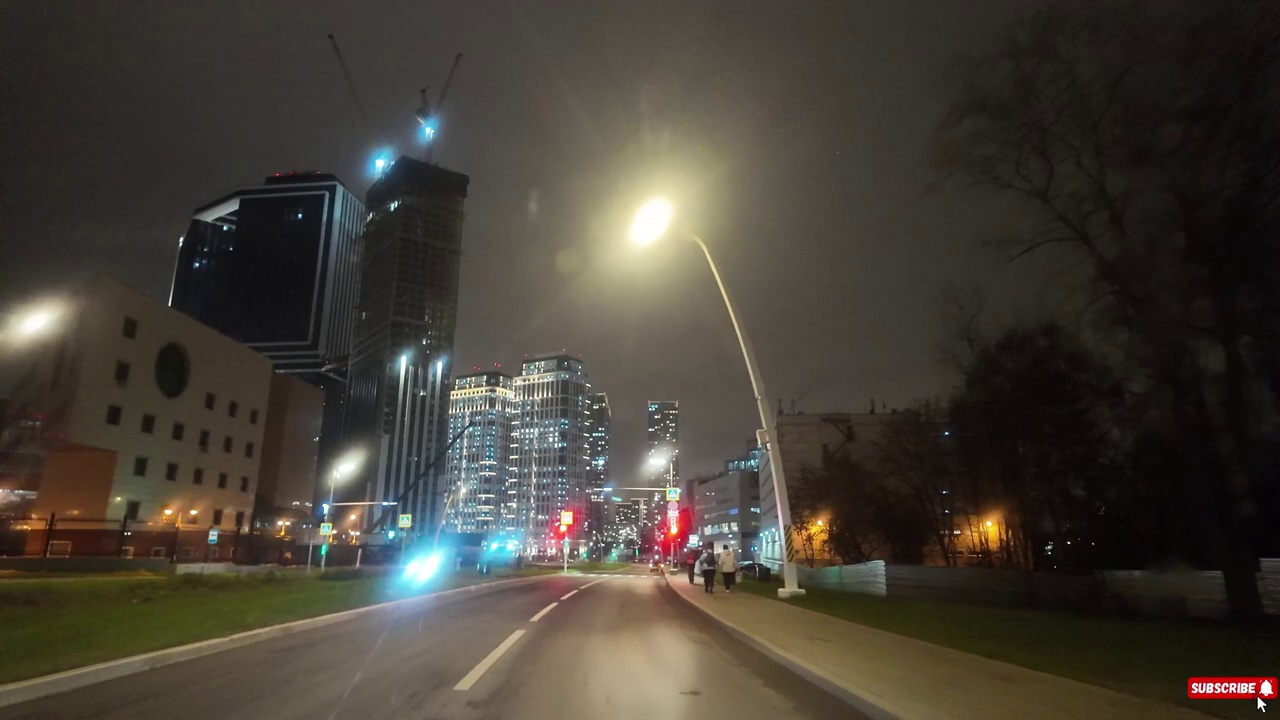acesa: (619, 188, 687, 258), (2, 297, 68, 355), (325, 448, 367, 488), (637, 444, 673, 482)
